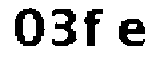0: (13, 7, 49, 48)
3: (49, 6, 80, 49)
e: (117, 15, 150, 53)
f: (79, 4, 108, 49)
